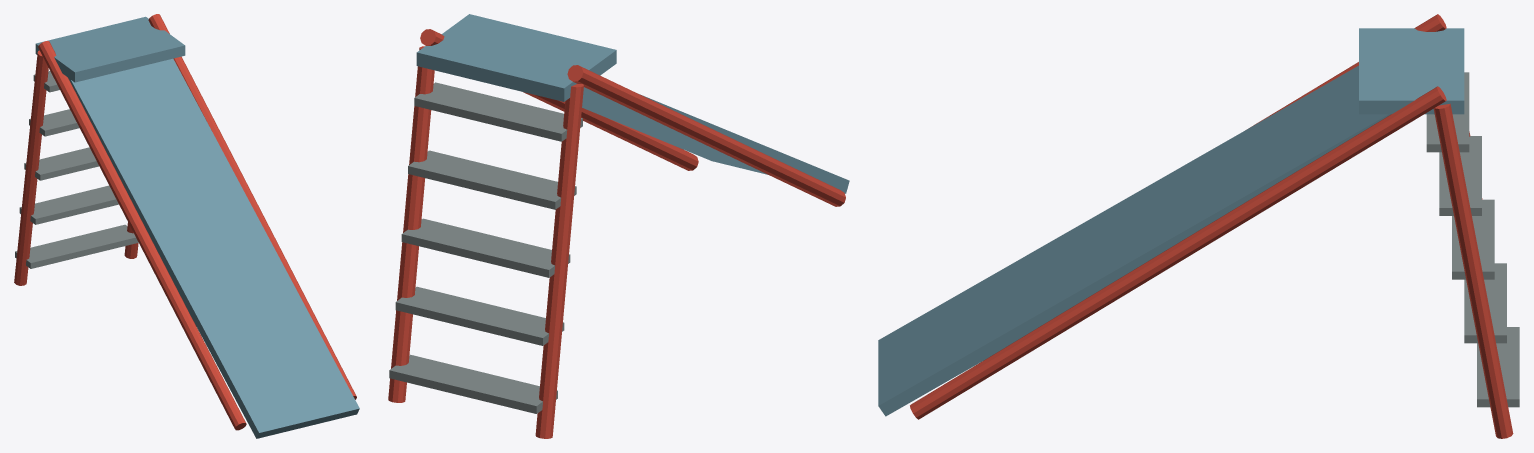
Rendered from park_slide.glb.
3 renders of one model, left to right at view 1: azimuth 30°, elevation 25°; view 2: azimuth 150°, elevation 25°; view 3: azimuth 270°, elevation 25°, orthographic. The views are drawn at different scales.
Visible parts, largest first — view 1: park_slide; view 2: park_slide; view 3: park_slide.
Part boxes in pixels (<box>): park_slide: <box>14,14,359,438</box>; park_slide: <box>388,14,849,438</box>; park_slide: <box>878,14,1519,438</box>.
Size of the model in its own units: 0.7466 by 1.54 by 2.55.
